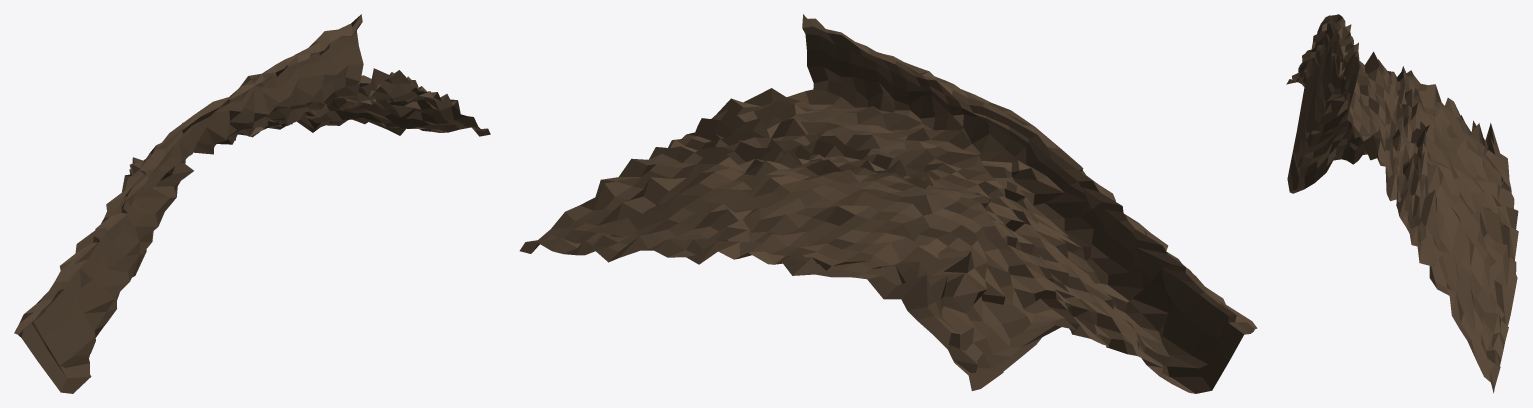
File: background.glb
3 renders of one model, left to right at view 1: azimuth 30°, elevation 25°; view 2: azimuth 150°, elevation 25°; view 3: azimuth 270°, elevation 25°, orthographic. The views are drawn at different scales.
Parts seen in each view (by area): view 1: Background; view 2: Background; view 3: Background.
Boxes of the visible parts, bbox=[...] form: Background: bbox=[14, 14, 490, 393]; Background: bbox=[519, 14, 1257, 393]; Background: bbox=[1286, 14, 1518, 393].
Bounding box in the file's own units: 1673 × 796 × 532.
